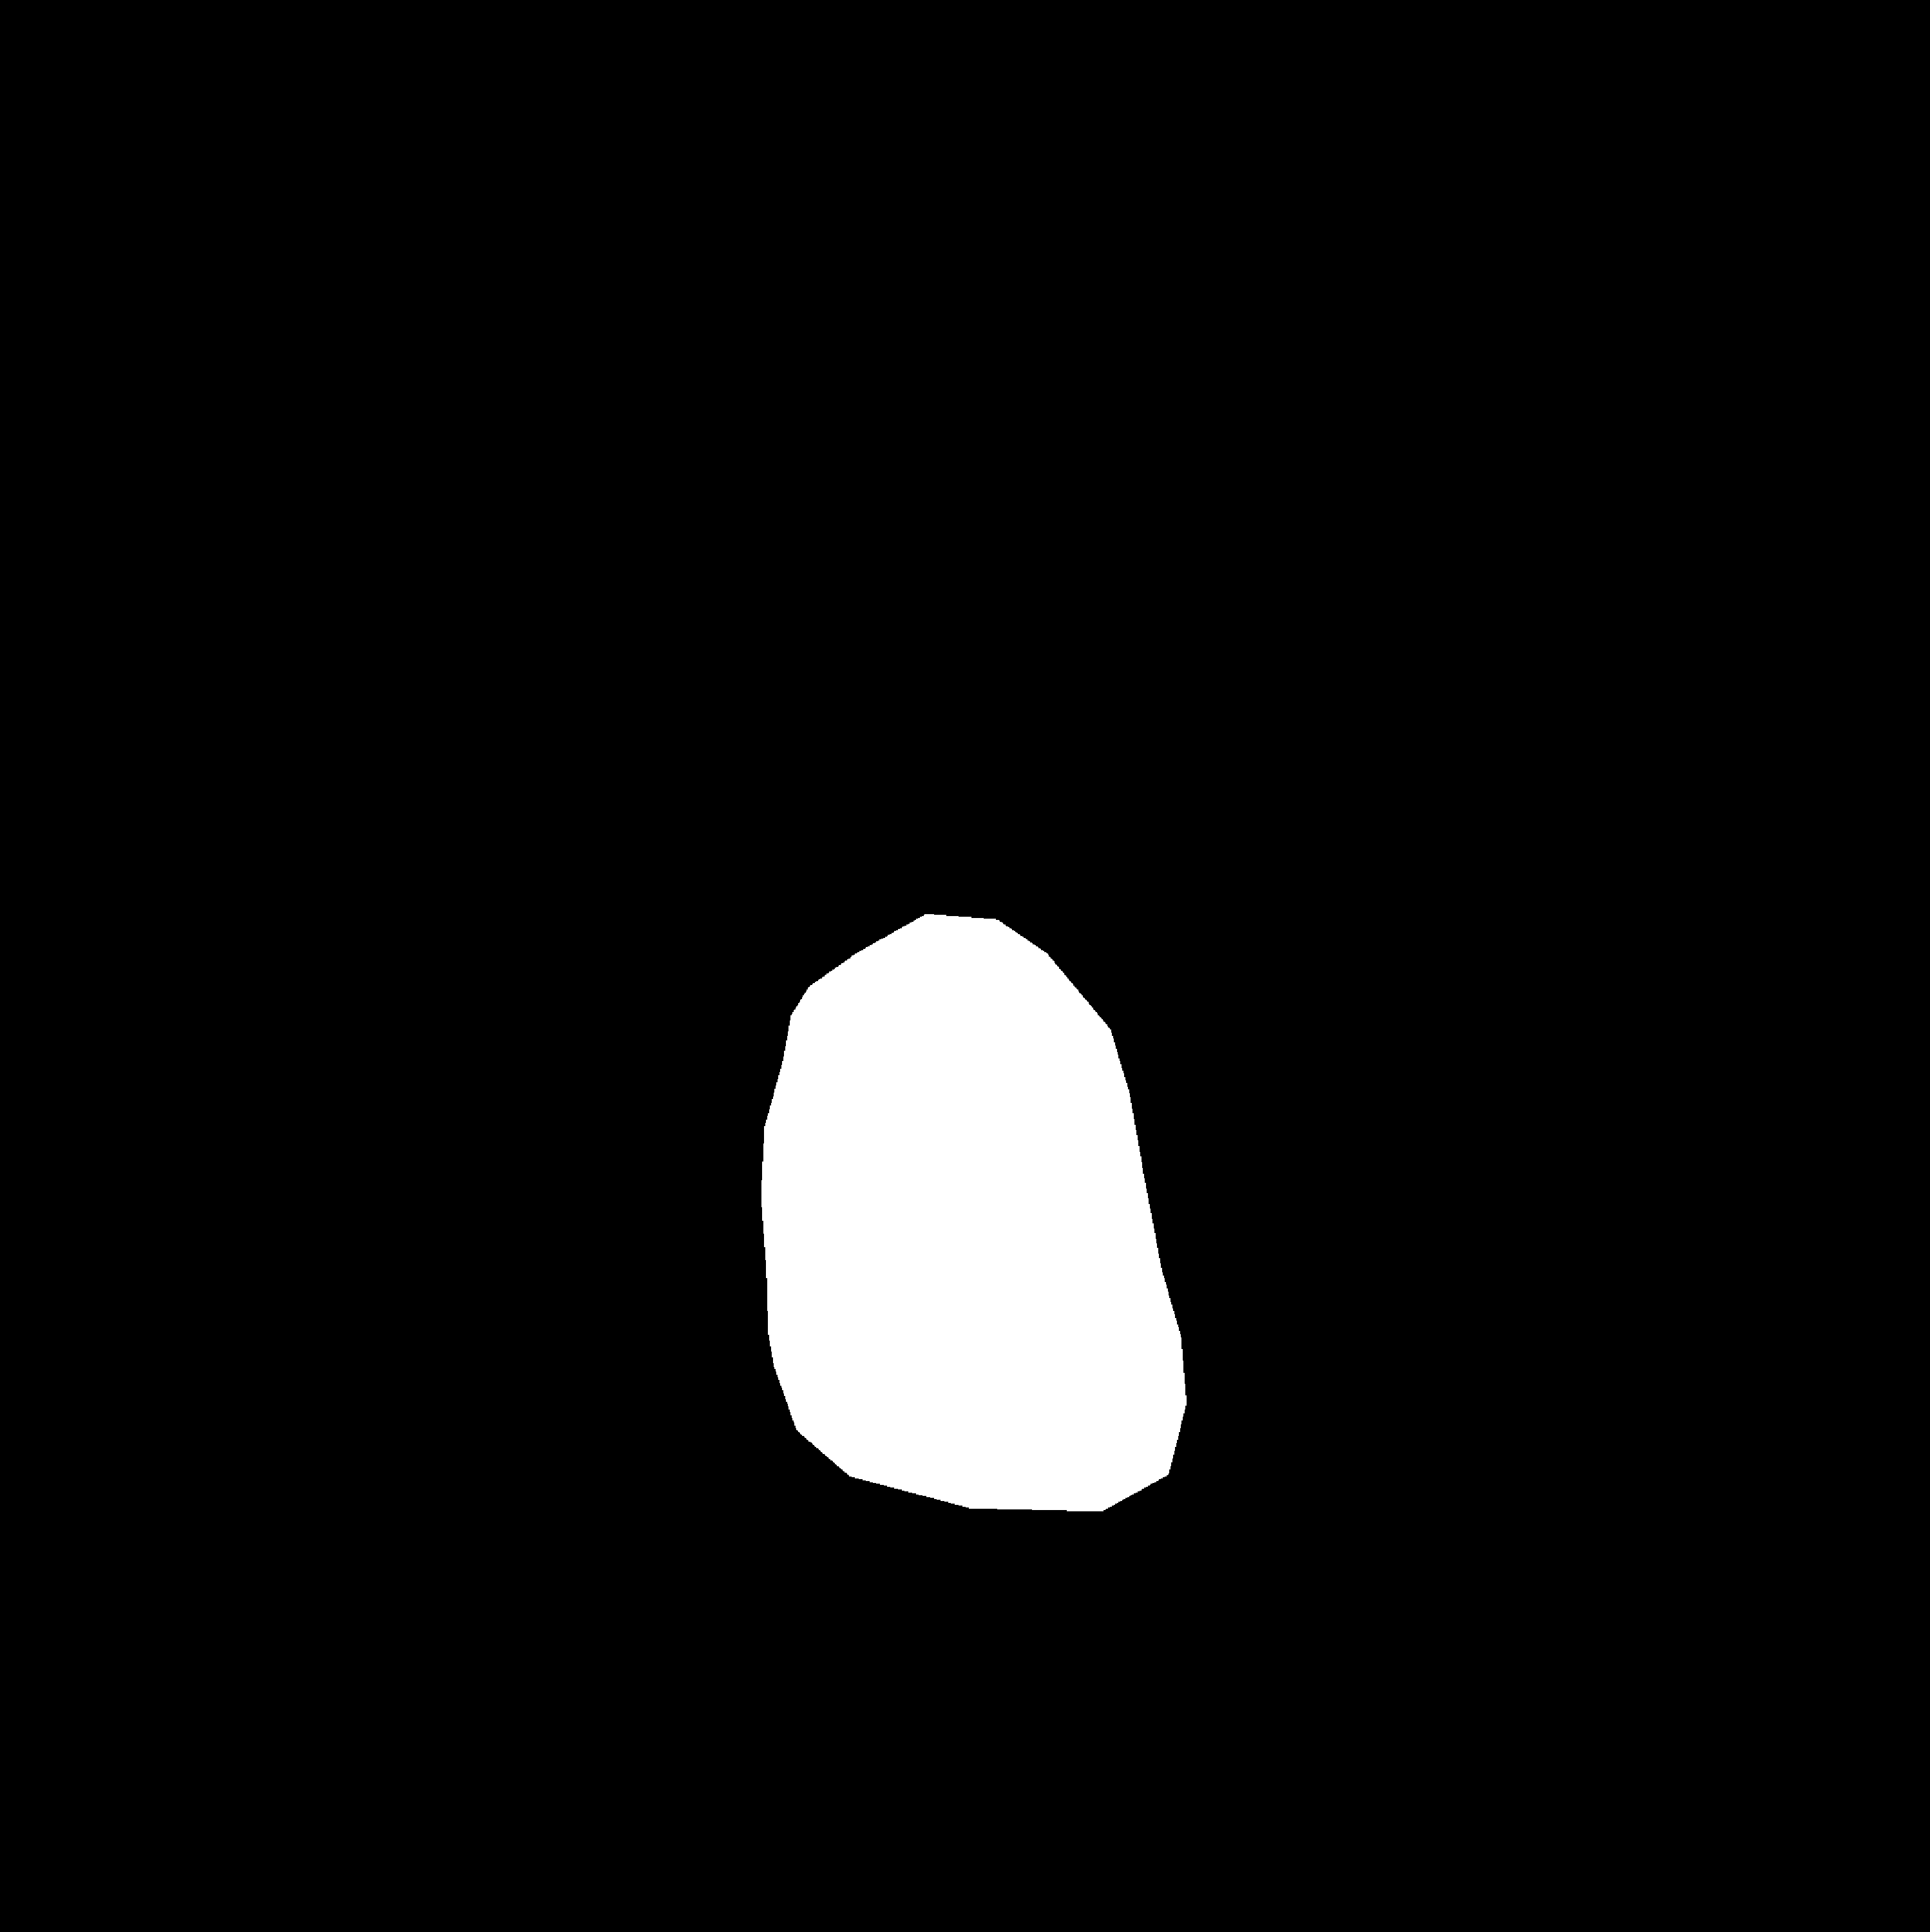heart: (769, 1009, 1179, 1654)
left_lung: (283, 405, 818, 1676)
right_lung: (984, 378, 1546, 1822)
